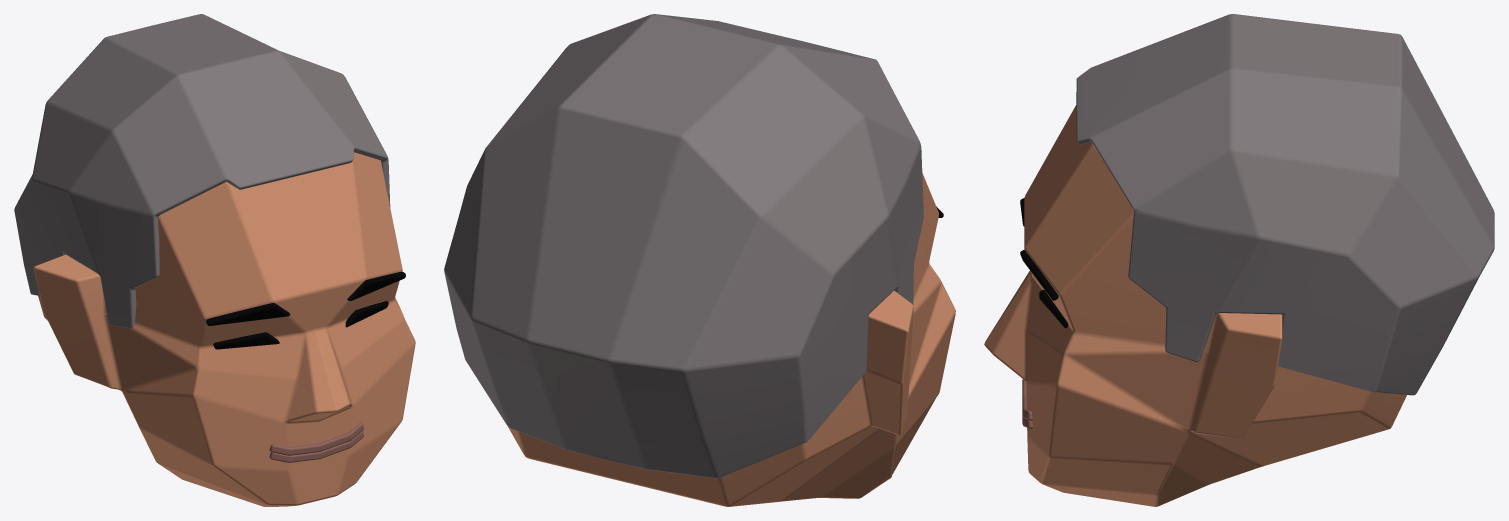
Rendered from Pak Edi.obj.
3 renders of one model, left to right at view 1: azimuth 30°, elevation 25°; view 2: azimuth 150°, elevation 25°; view 3: azimuth 270°, elevation 25°, orthographic. The views are drawn at different scales.
Parts seen in each view (by area): view 1: Pak_Edi2_Cube.014; view 2: Pak_Edi2_Cube.014; view 3: Pak_Edi2_Cube.014.
Boxes of the visible parts, x1,y1,x2,y2 form: Pak_Edi2_Cube.014: [14, 14, 415, 506]; Pak_Edi2_Cube.014: [444, 14, 955, 506]; Pak_Edi2_Cube.014: [984, 14, 1494, 506].
Bounding box in the file's own units: 2.72 × 2.89 × 3.09.
